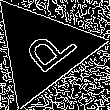P_SW: (10, 20, 75, 80)
